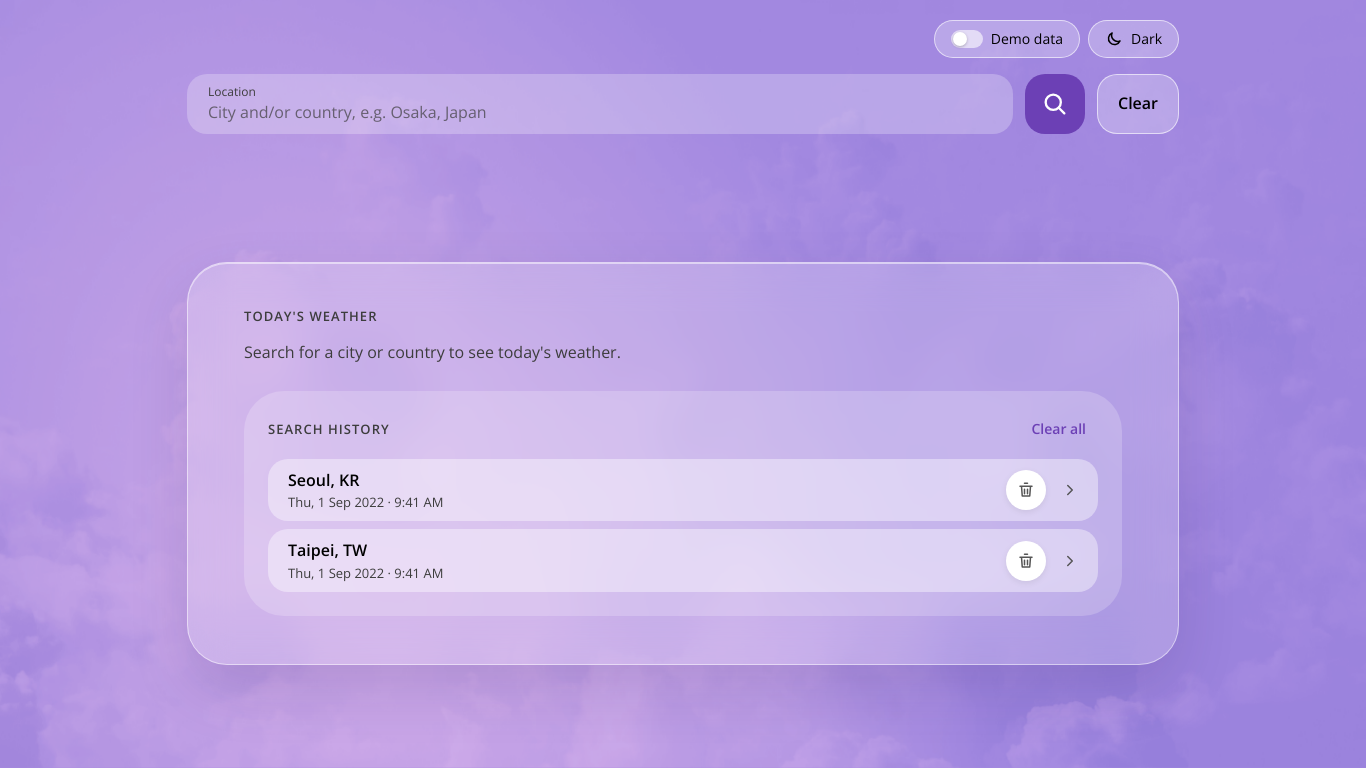
Test: App › search again re-fetches a history entry, fills the box and moves it to the top
Click the button named "Search Taipei, TW again".
click(1070, 561)  # box [1050,541,1090,581]
(page scrolled)
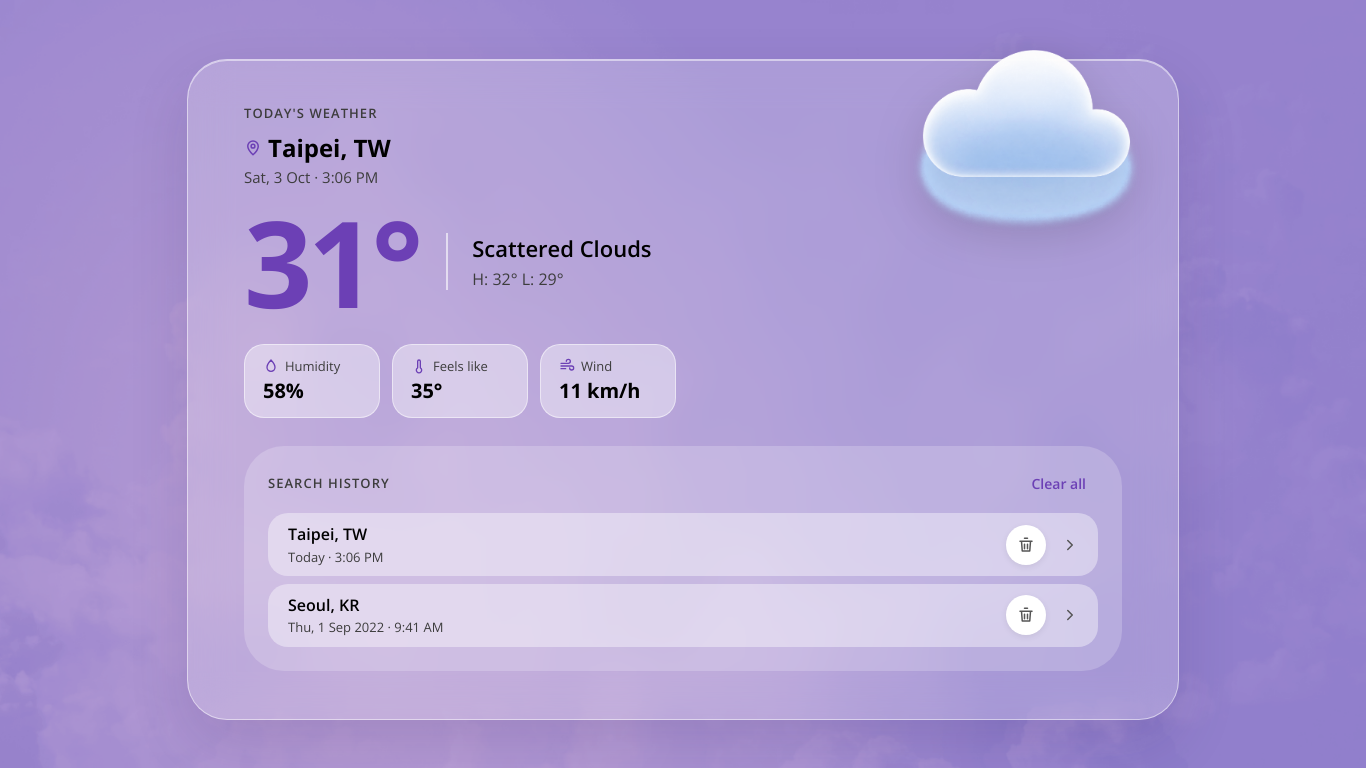
Check: the number of list items is 2, box [268,513,1098,576]; [268,584,1098,646]
Check: the text "Taipei, TW" is shown, box [244,131,391,164]
